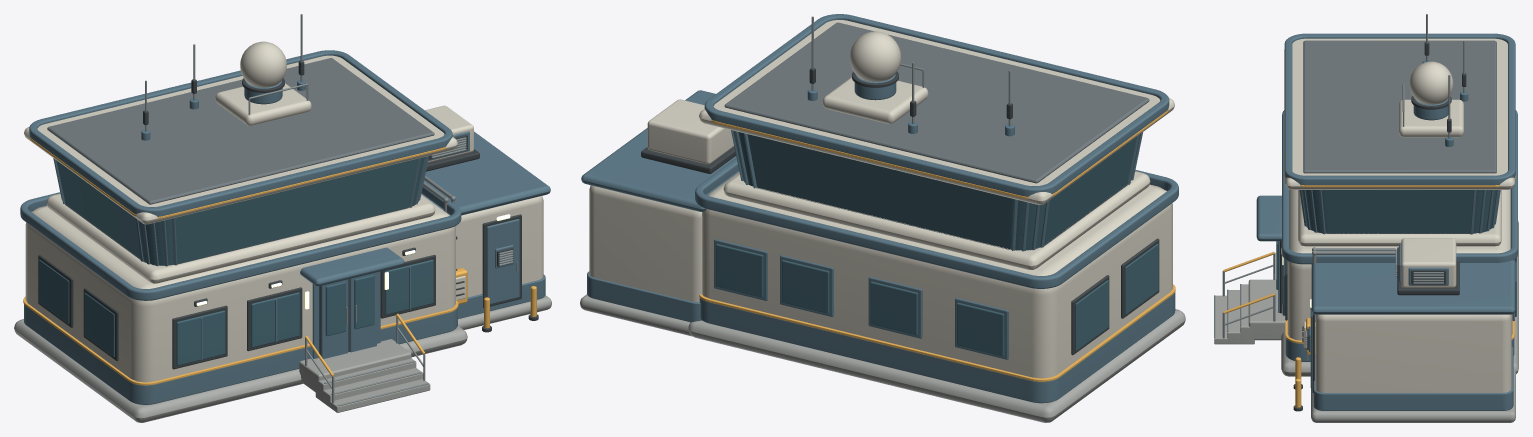
File: low_control_building.glb
3 views of the same model, side by side, from view 1: azimuth 30°, elevation 25°; view 2: azimuth 150°, elevation 25°; view 3: azimuth 270°, elevation 25° (orthographic). The views are drawn at different scales.
Parts seen in each view (by area): view 1: Roof raised inset deck, Main lower rounded structure, Wide splayed control-room glazing, Upper slate fascia, Main slate lower skirt, Main eave cap, Upper room sill, Main raised foundation, Shallow broad upper roof, Annex slate roof cap, Attached utility annex, Entrance upper stoop (+28 smaller); view 2: Main lower rounded structure, Roof raised inset deck, Wide splayed control-room glazing, Attached utility annex, Main slate lower skirt, Upper slate fascia, Main raised foundation, Main eave cap, Upper room sill, Shallow broad upper roof, Annex slate roof cap, Annex roof HVAC enclosure (+20 smaller); view 3: Roof raised inset deck, Attached utility annex, Annex slate roof cap, Wide splayed control-room glazing, Upper slate fascia, Shallow broad upper roof, Annex slate lower skirt, Main lower rounded structure, Main eave cap, Upper room sill, Utility annex foundation, Annex roof HVAC enclosure (+15 smaller).
Boxes of the visible parts, x1,y1,x2,y2 form: Roof raised inset deck: (47,58,434,204); Main lower rounded structure: (25,194,455,382); Wide splayed control-room glazing: (56,157,427,265); Upper slate fascia: (29,50,452,216); Main slate lower skirt: (24,304,457,404); Main eave cap: (20,186,461,300); Upper room sill: (46,193,435,283); Main raised foundation: (14,319,467,422); Shallow broad upper roof: (24,55,457,224); Annex slate roof cap: (421,131,550,215); Attached utility annex: (455,196,543,297); Entrance upper stoop: (299,339,411,392); Main lower rounded structure: (702,172,1172,378); Roof raised inset deck: (724,22,1149,183); Wide splayed control-room glazing: (733,130,1140,250); Attached utility annex: (589,185,702,302); Main slate lower skirt: (699,292,1175,403); Upper slate fascia: (704,14,1169,196); Main raised foundation: (688,309,1185,422); Main eave cap: (695,158,1178,288); Upper room sill: (723,171,1150,269); Shallow broad upper roof: (699,20,1174,204); Annex slate roof cap: (581,90,739,211); Annex roof HVAC enclosure: (647,99,734,164); Roof raised inset deck: (1303,40,1496,173); Attached utility annex: (1315,314,1511,392); Annex slate roof cap: (1311,260,1515,314); Wide splayed control-room glazing: (1301,190,1496,233); Upper slate fascia: (1284,33,1515,185); Shallow broad upper roof: (1285,38,1514,189); Annex slate lower skirt: (1313,346,1513,410); Main lower rounded structure: (1287,189,1512,340); Main eave cap: (1282,110,1517,264); Upper room sill: (1298,190,1501,246); Utility annex foundation: (1311,369,1515,422); Annex roof HVAC enclosure: (1401,238,1456,287).
Bounding box in the file's own units: 10.44 × 6.59 × 6.8.
